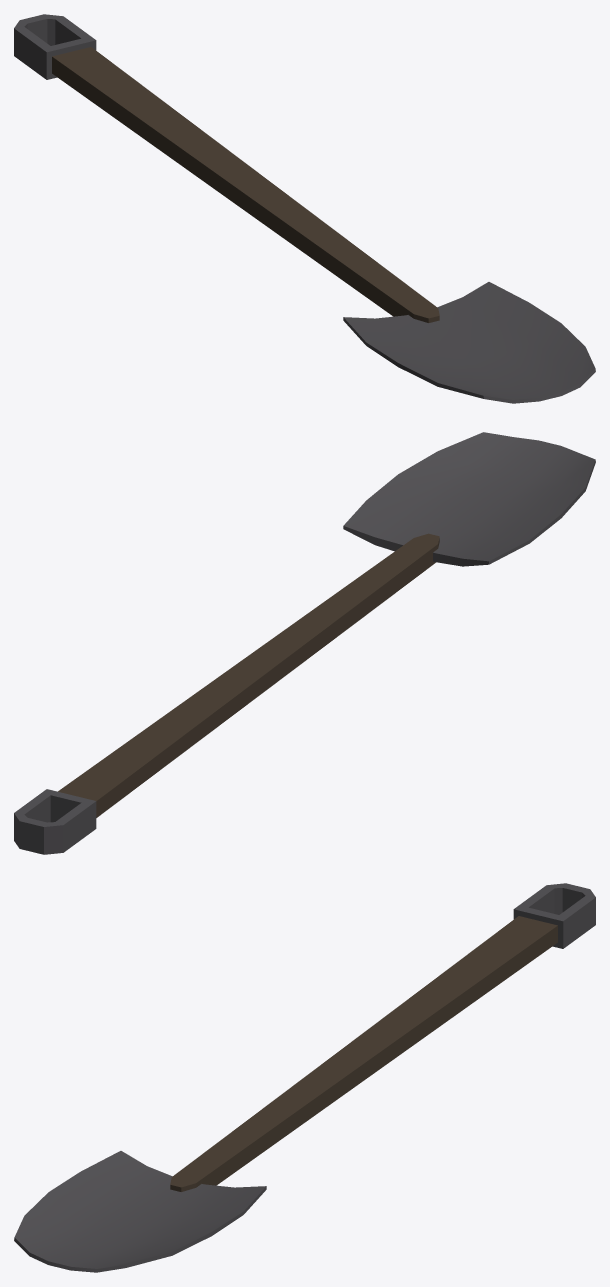
File: SM_Shovel.fbx
The picture shows the model from 3 angles, top to bottom: view 1: azimuth 30°, elevation 25°; view 2: azimuth 150°, elevation 25°; view 3: azimuth 330°, elevation 25°; orthographic projection.
Parts seen in each view (by area): view 1: SM_Shovel; view 2: SM_Shovel; view 3: SM_Shovel.
Part boxes in pixels (x1,y1,x2,y2): SM_Shovel: (14, 14, 595, 403); SM_Shovel: (14, 432, 595, 854); SM_Shovel: (14, 883, 595, 1272).
Bounding box in the file's own units: 28.66 × 5.78 × 158.
